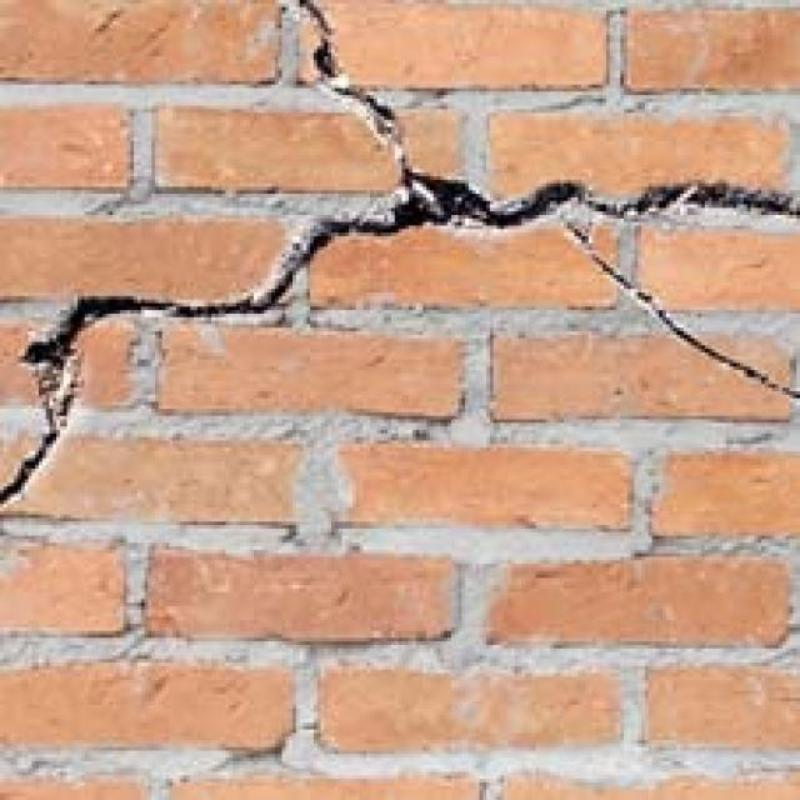pothole: (0, 3, 800, 504), (566, 223, 800, 398)
